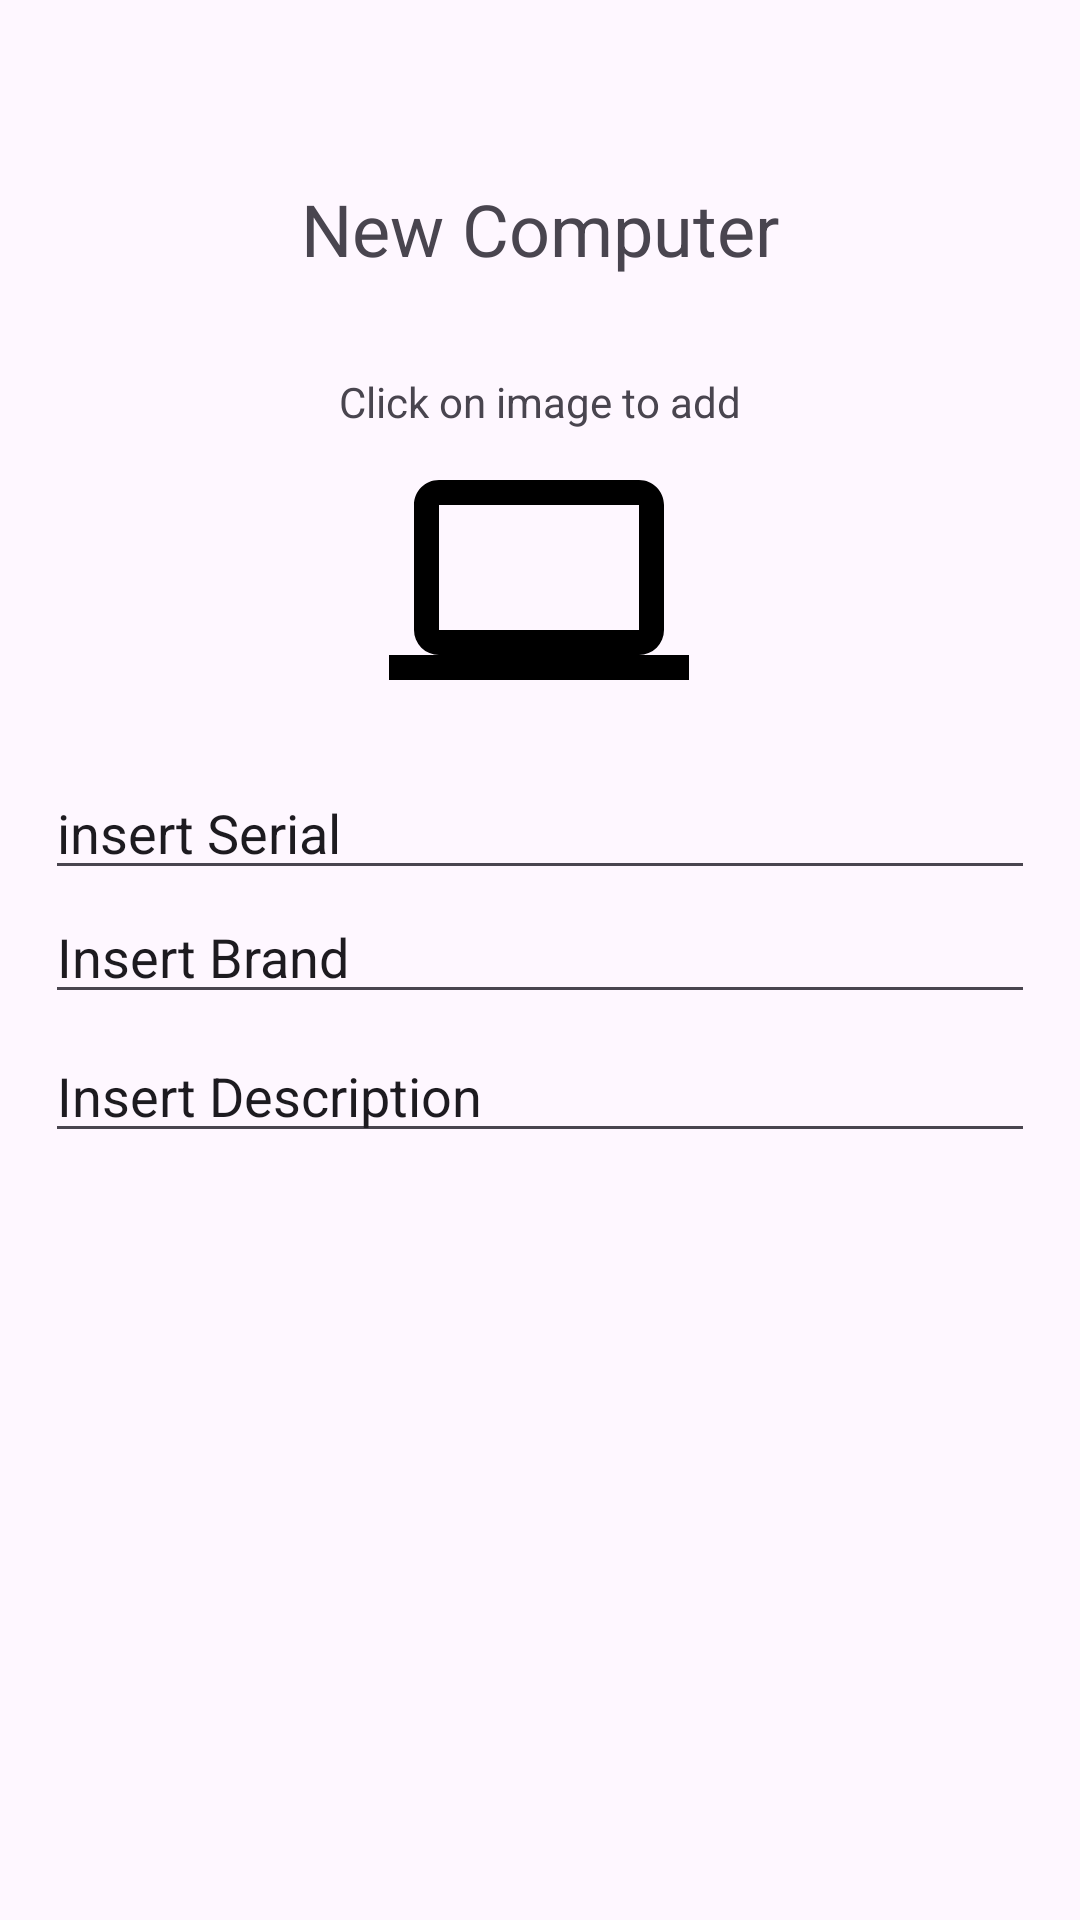

Named icons in this screenshot (1080×1920) and their centers, (x=x, y=y):
id computer: (x=539, y=580)
